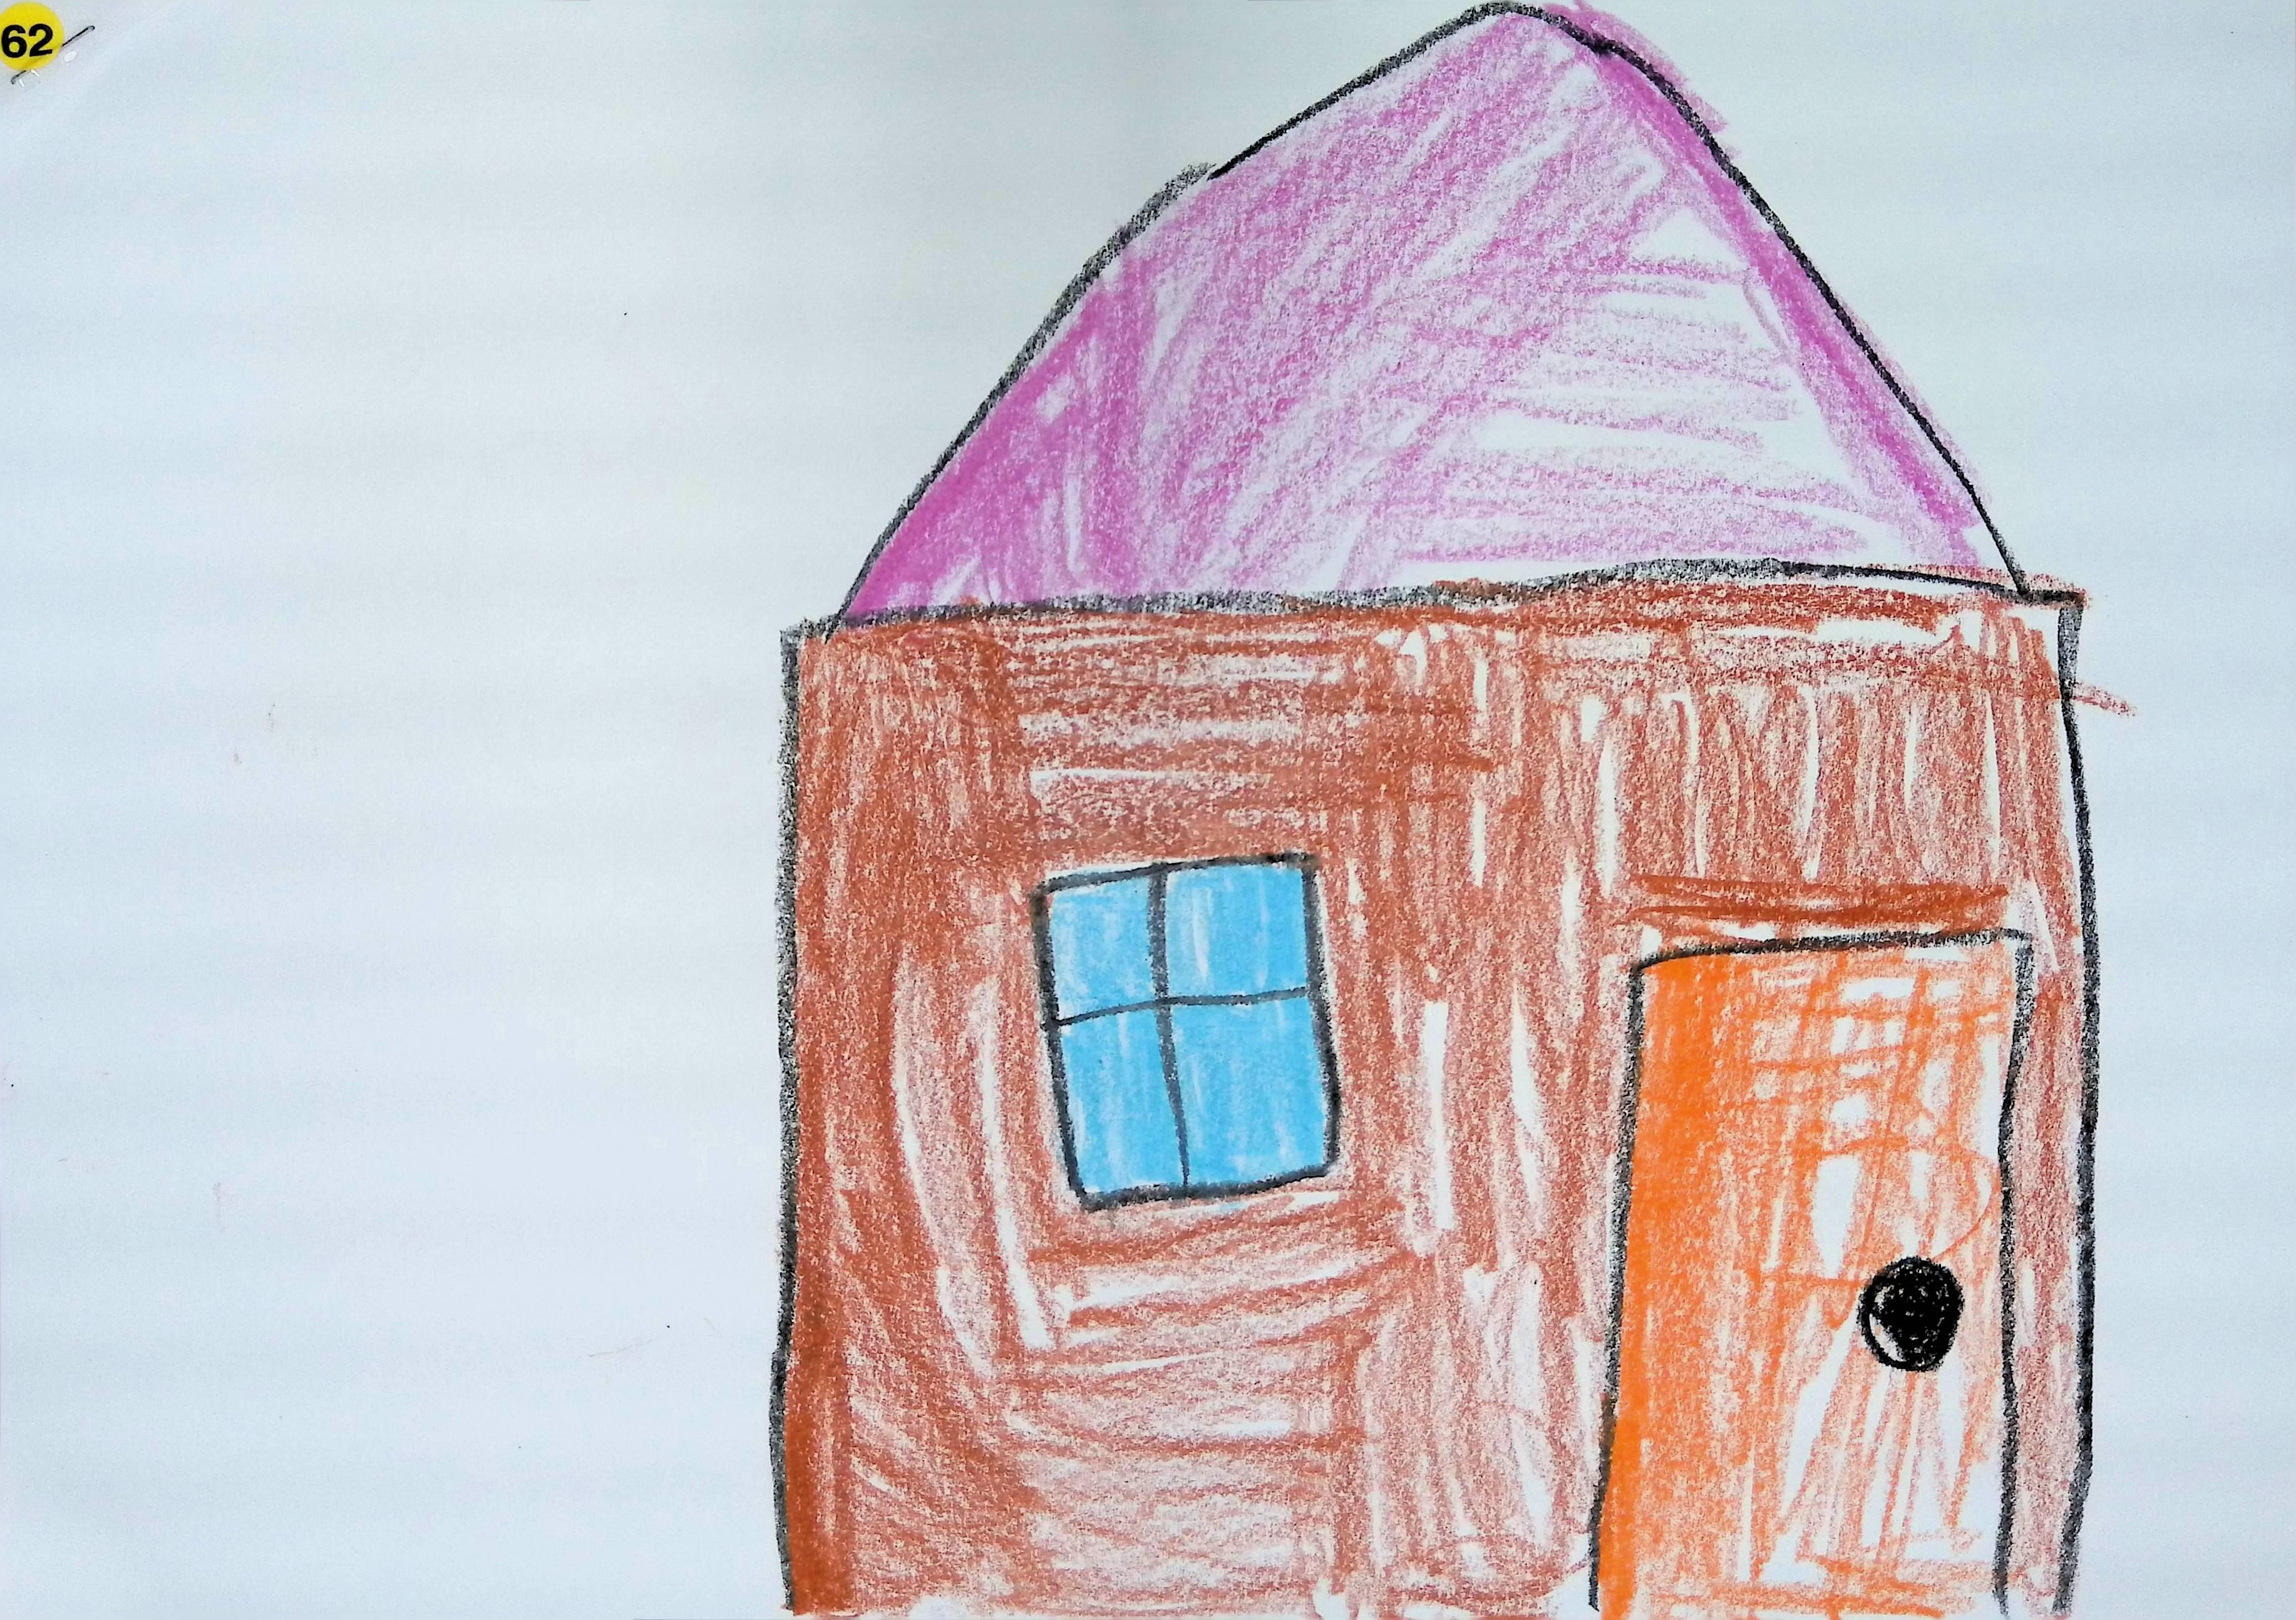door: (1600, 934, 2026, 1620)
house: (772, 4, 2100, 1618)
roof: (844, 4, 2014, 617)
wall: (781, 577, 2087, 1616)
window: (1042, 859, 1335, 1203)
